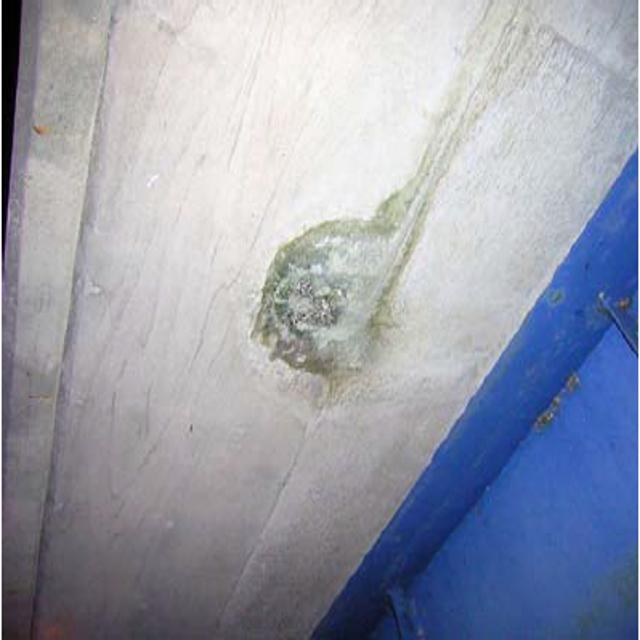leakage: (239, 214, 417, 406)
